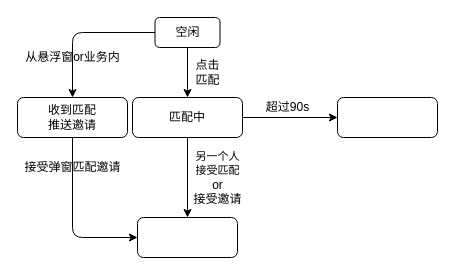
This 455x275 diagram has some shape labels left out. The centre of each missing label's shape, as x and y in pixels:
匹配失败: point 387,117
匹配成功: point 187,237
